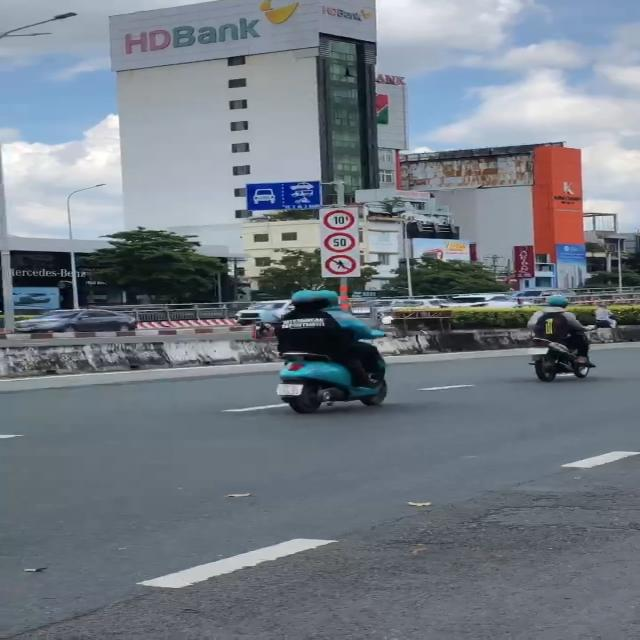Bien bao cam nguoi di bo: (324, 253, 361, 277)
Bien bao toc do toi da cho phep: (321, 230, 360, 253)
